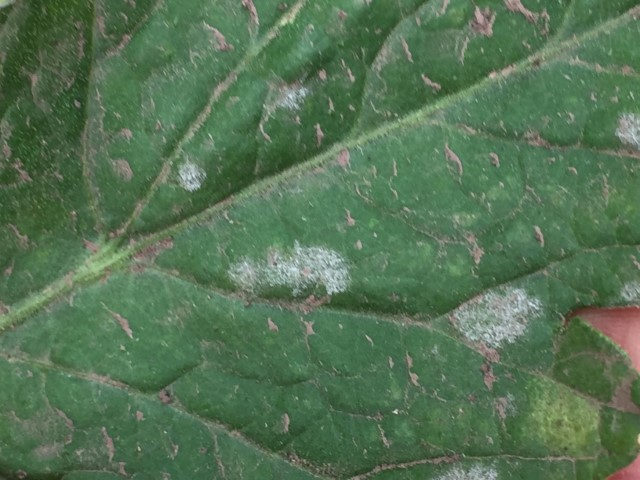oidio: (226, 239, 354, 295), (452, 287, 543, 347), (431, 460, 500, 480), (268, 85, 310, 114), (175, 156, 207, 191), (613, 111, 640, 147), (619, 280, 640, 303)
